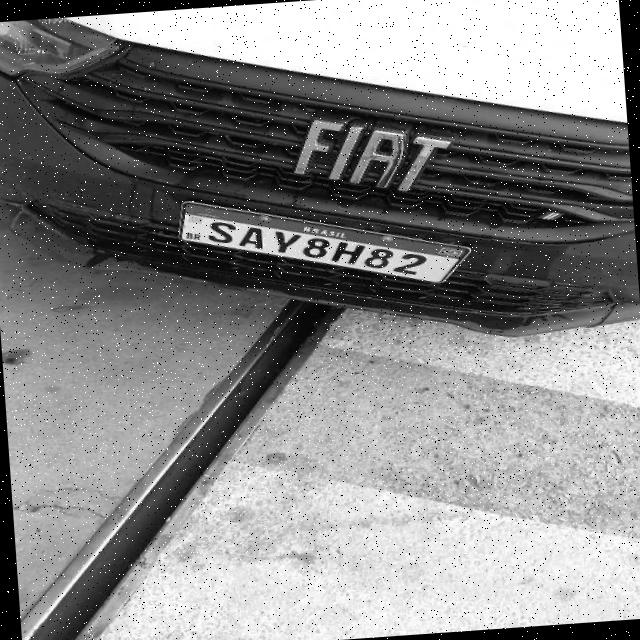placa_mercosul: (180, 202, 469, 281)
